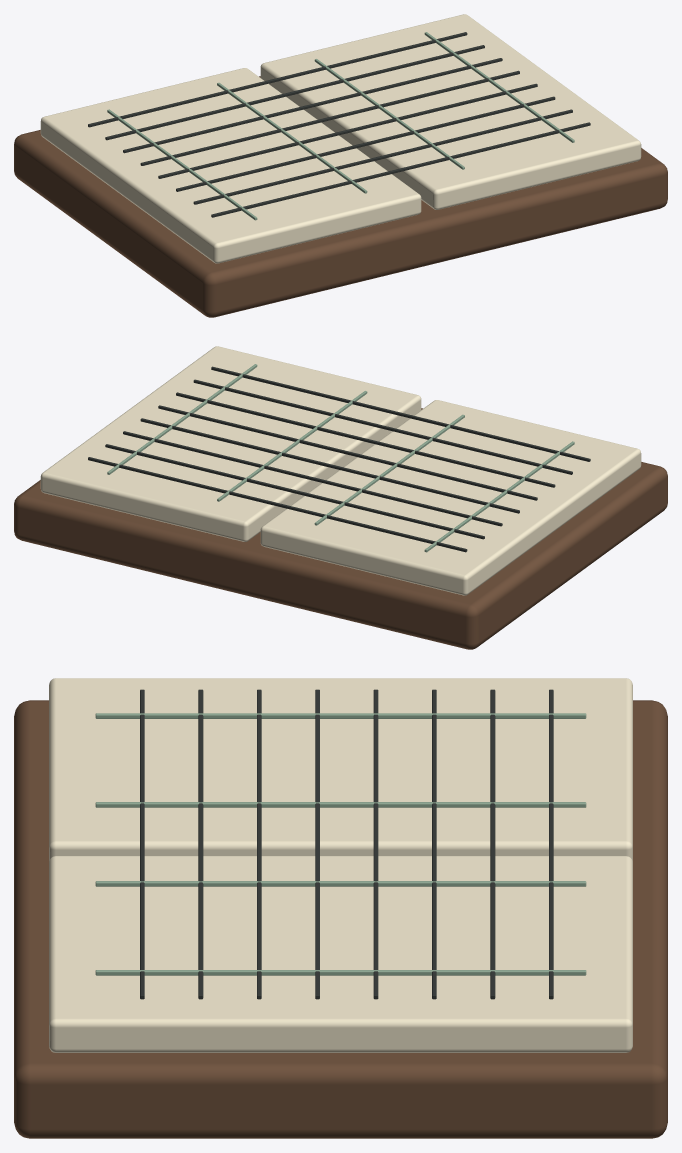
The model's file is abandoned-telephone-exchange-call-log-register-eec3dd31__31986.glb.
3 renders of one model, top to bottom at view 1: azimuth 30°, elevation 25°; view 2: azimuth 150°, elevation 25°; view 3: azimuth 270°, elevation 25°, orthographic. The views are drawn at different scales.
Visible parts, largest first — view 1: call-log-register; view 2: call-log-register; view 3: call-log-register.
Boxes of the visible parts, bbox=[...] form: call-log-register: bbox=[14, 14, 667, 317]; call-log-register: bbox=[14, 346, 667, 649]; call-log-register: bbox=[14, 678, 667, 1138].
Size of the model in its own units: 0.38 by 0.054 by 0.28.
